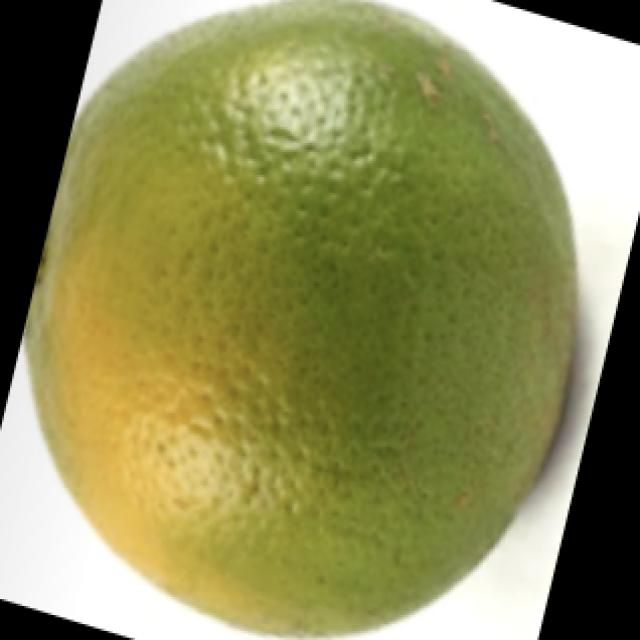orange: (44, 9, 588, 640)
